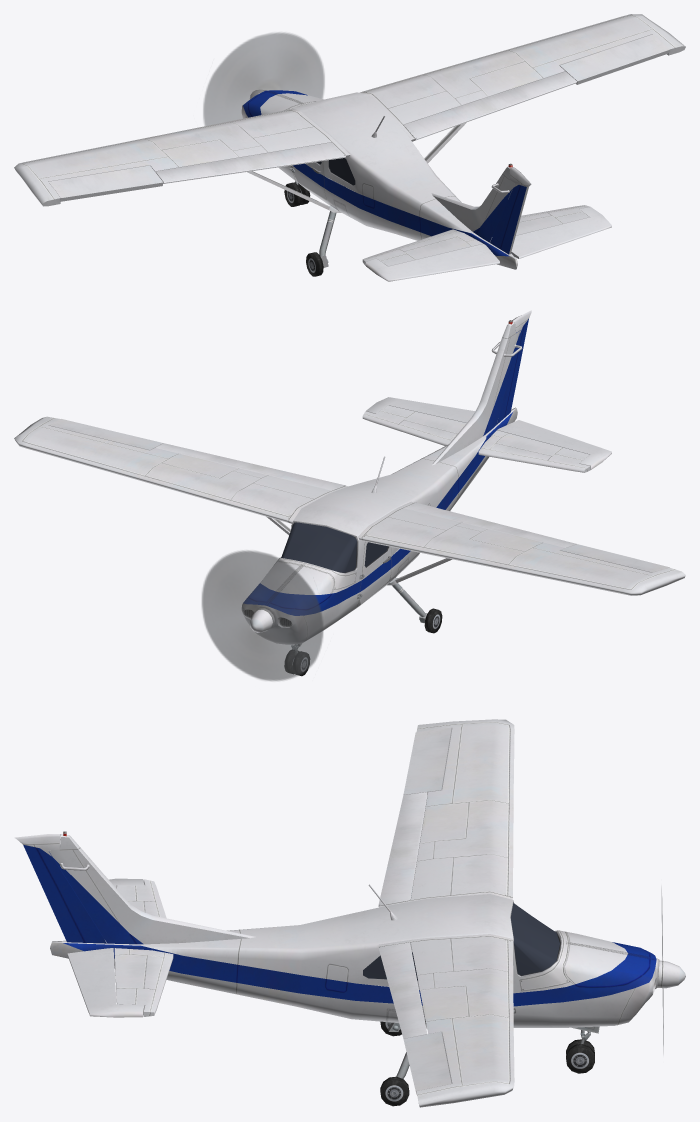
The model's file is Airplane_Propeller.glb.
The picture shows the model from 3 angles, top to bottom: view 1: azimuth 30°, elevation 25°; view 2: azimuth 150°, elevation 25°; view 3: azimuth 270°, elevation 25°; orthographic projection. The views are drawn at different scales.
Visible parts, largest first — view 1: Airplane_Propeller__LOD3; view 2: Airplane_Propeller__LOD3; view 3: Airplane_Propeller__LOD3.
Boxes of the visible parts, x1,y1,x2,y2 form: Airplane_Propeller__LOD3: (14, 14, 685, 281); Airplane_Propeller__LOD3: (14, 310, 685, 681); Airplane_Propeller__LOD3: (14, 719, 685, 1107).
Size of the model in its own units: 11.49 by 3.35 by 8.6.
Materials: 1 (1 with a texture image).
